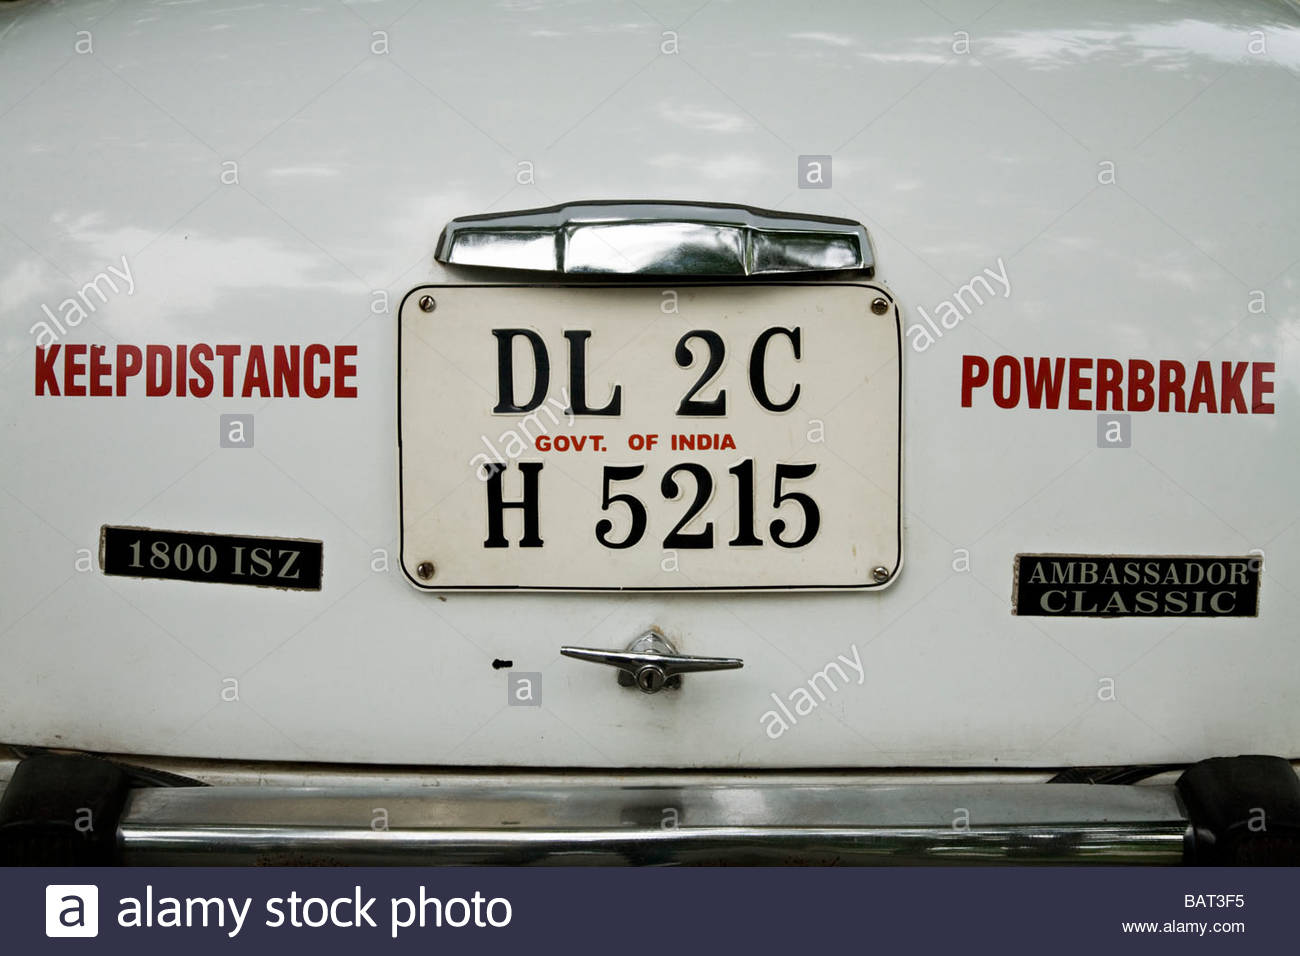number_plate: (394, 282, 904, 589)
